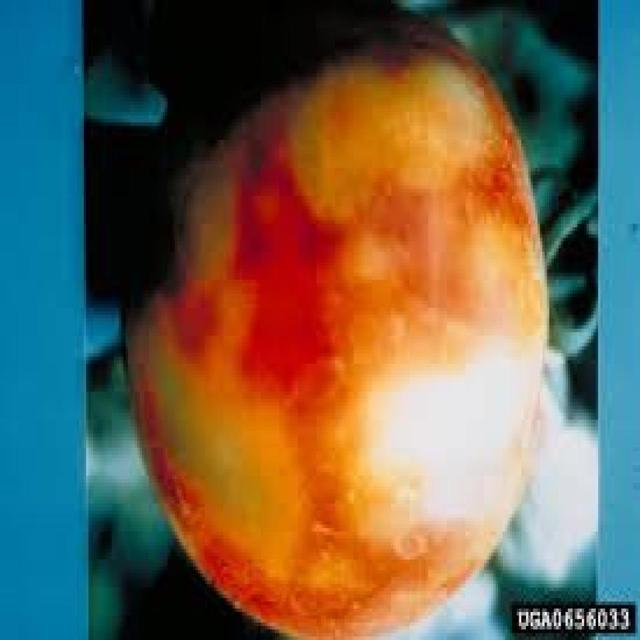Spotted wilt Virus Fruit: (57, 27, 169, 211)
